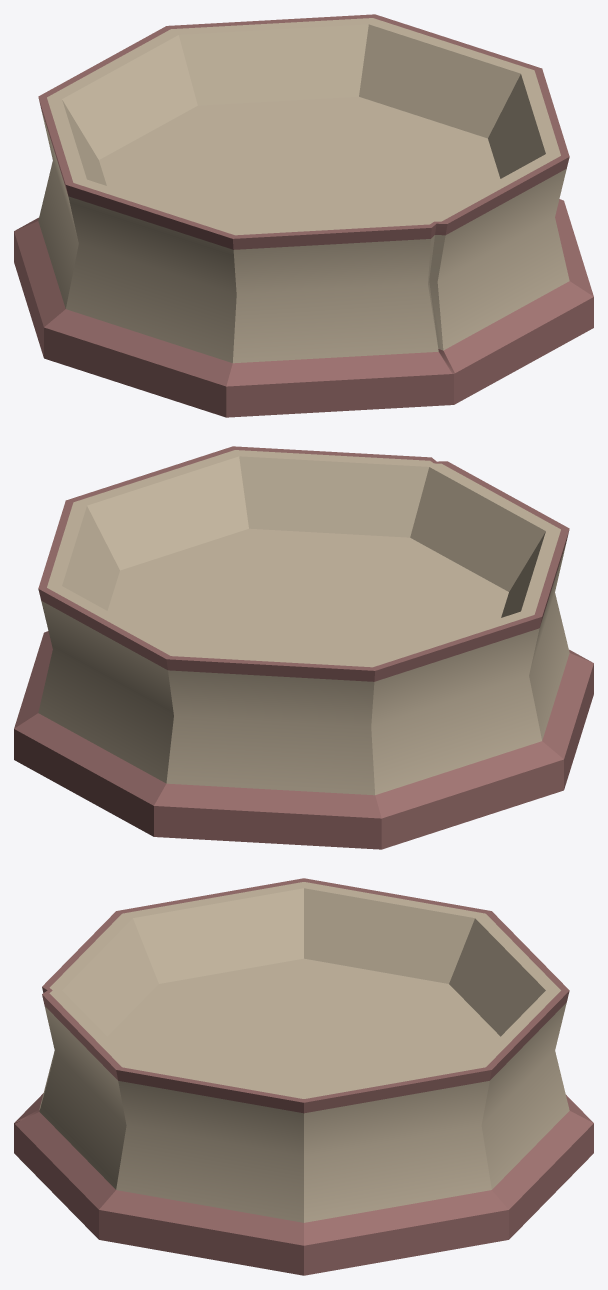
The model's file is SM_Food_Container_03.fbx.
3 views of the same model, one above another, from view 1: azimuth 30°, elevation 25°; view 2: azimuth 150°, elevation 25°; view 3: azimuth 270°, elevation 25° (orthographic). The views are drawn at different scales.
Parts seen in each view (by area): view 1: Food_Container_03; view 2: Food_Container_03; view 3: Food_Container_03.
Part boxes in pixels (x1,y1,x2,y2): Food_Container_03: (14, 14, 593, 417); Food_Container_03: (14, 446, 593, 849); Food_Container_03: (14, 878, 593, 1275).
Bounding box in the file's own units: 50.35 × 15.59 × 50.35.
